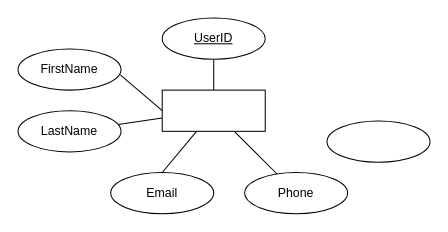
Some shapes in this 448 by 232 pixel diagram are drawn without their labels. Here are the shapes that lost their labels. From the top down, the centre of each, then its label:
the point at 213,110: User
the point at 378,141: PasswordHash
